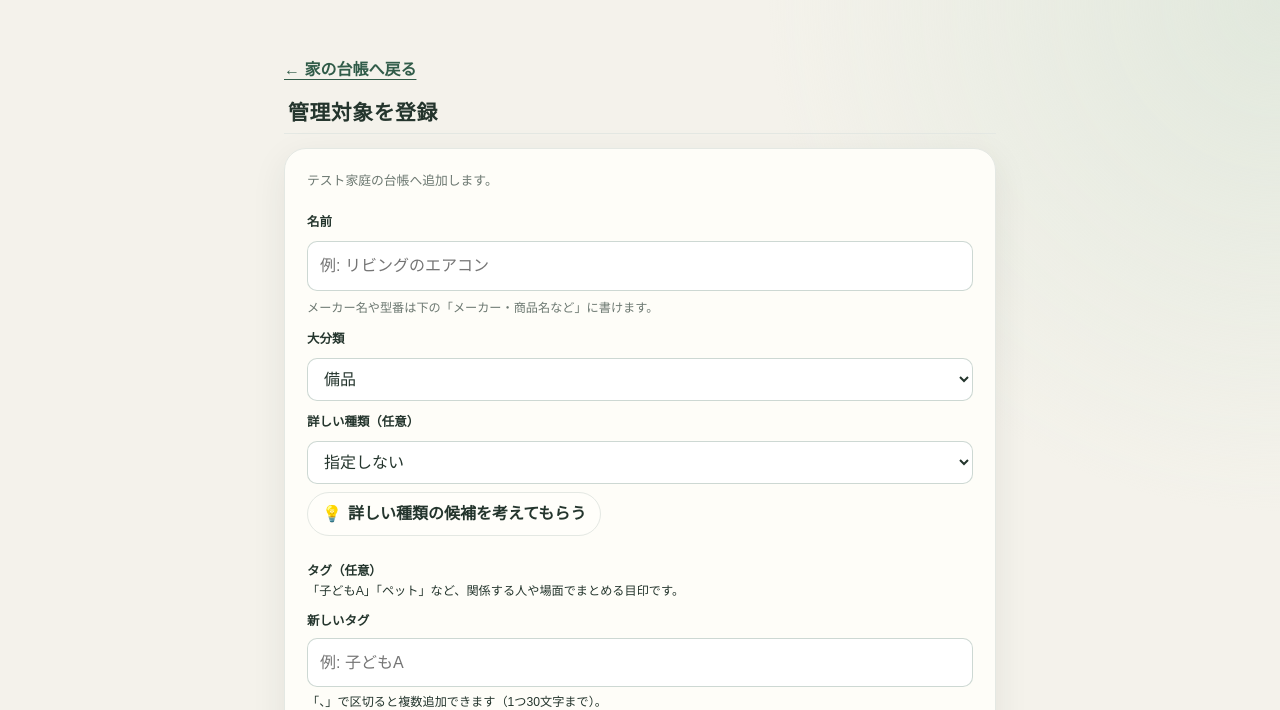
it: 登録・編集の自由入力(詳しい種類)候補(Issue #288) › 候補を選ぶと自由入力欄へ入り、そのまま送信できる
Step 1. Select "サービス" in the dropdown labelled "大分類" → {"x": 640, "y": 380}, box [307, 358, 973, 401]
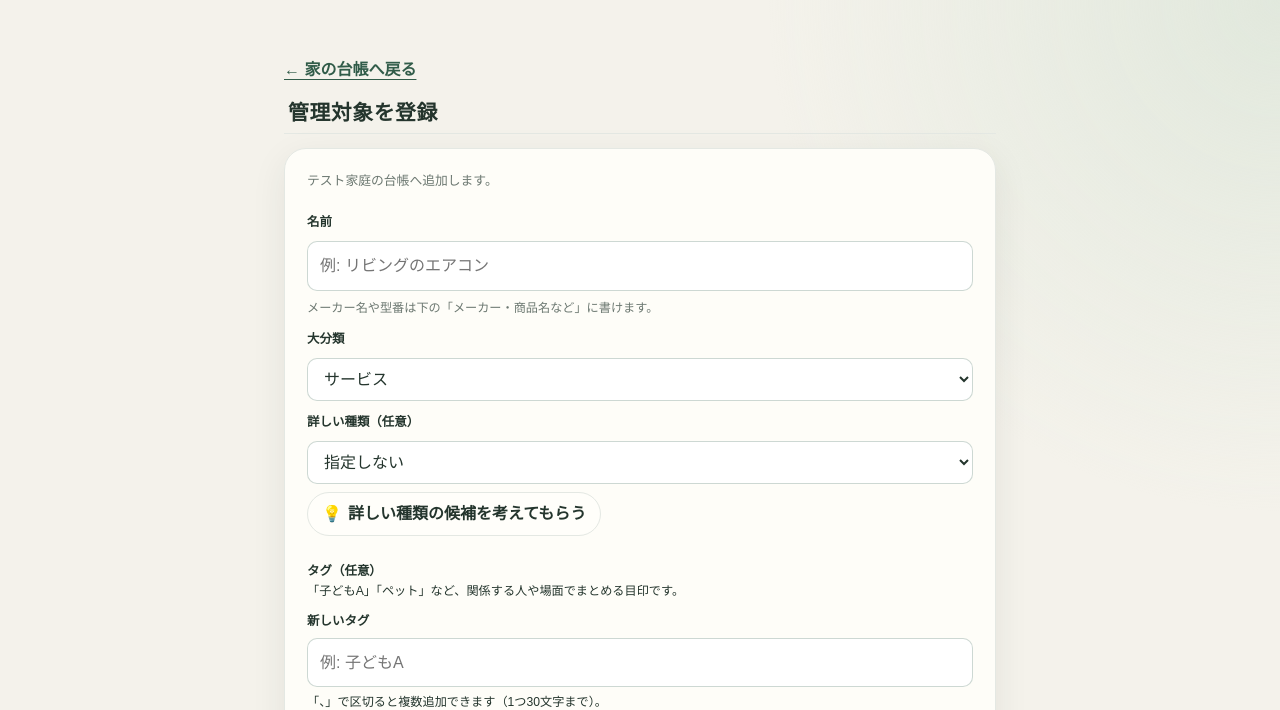
Step 2. Select "その他（自由入力）" in the dropdown labelled "詳しい種類（任意）" → {"x": 640, "y": 463}, box [307, 441, 973, 484]
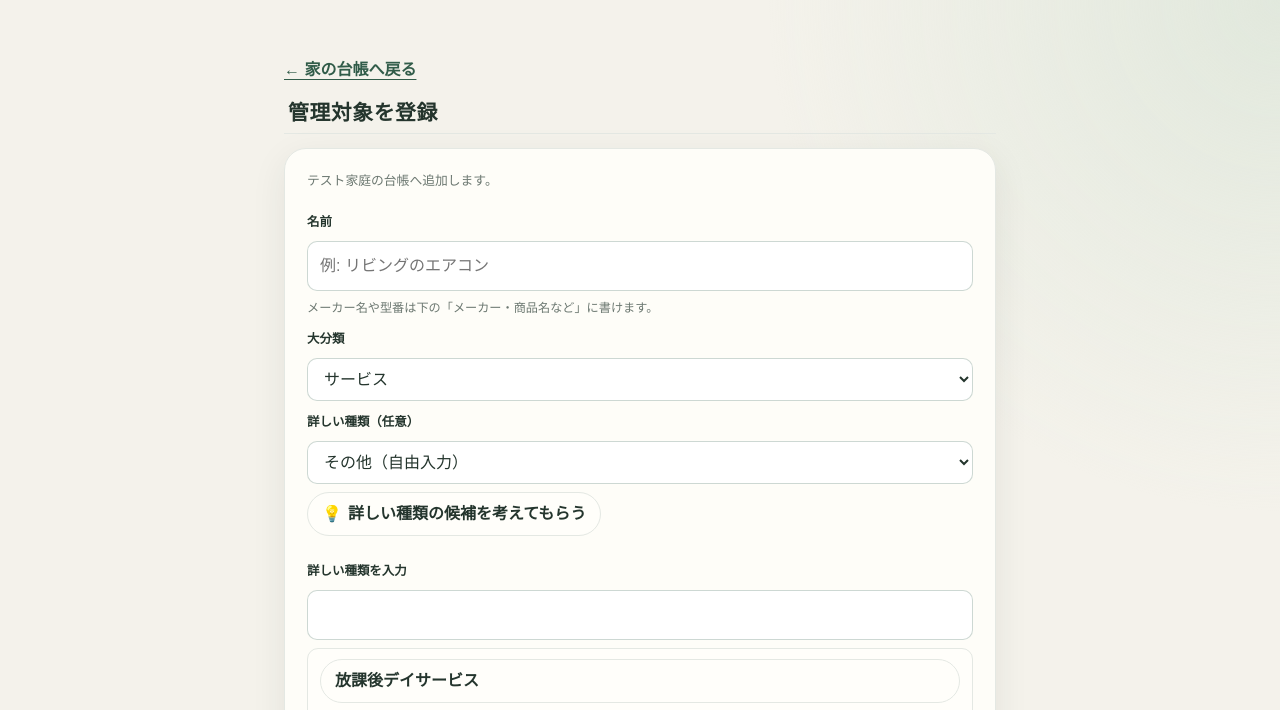
Now the field labelled "詳しい種類を入力" is empty, box [307, 590, 973, 640]
Step 3. Click the button "放課後デイサービス" → {"x": 407, "y": 681}, box [320, 659, 960, 703]
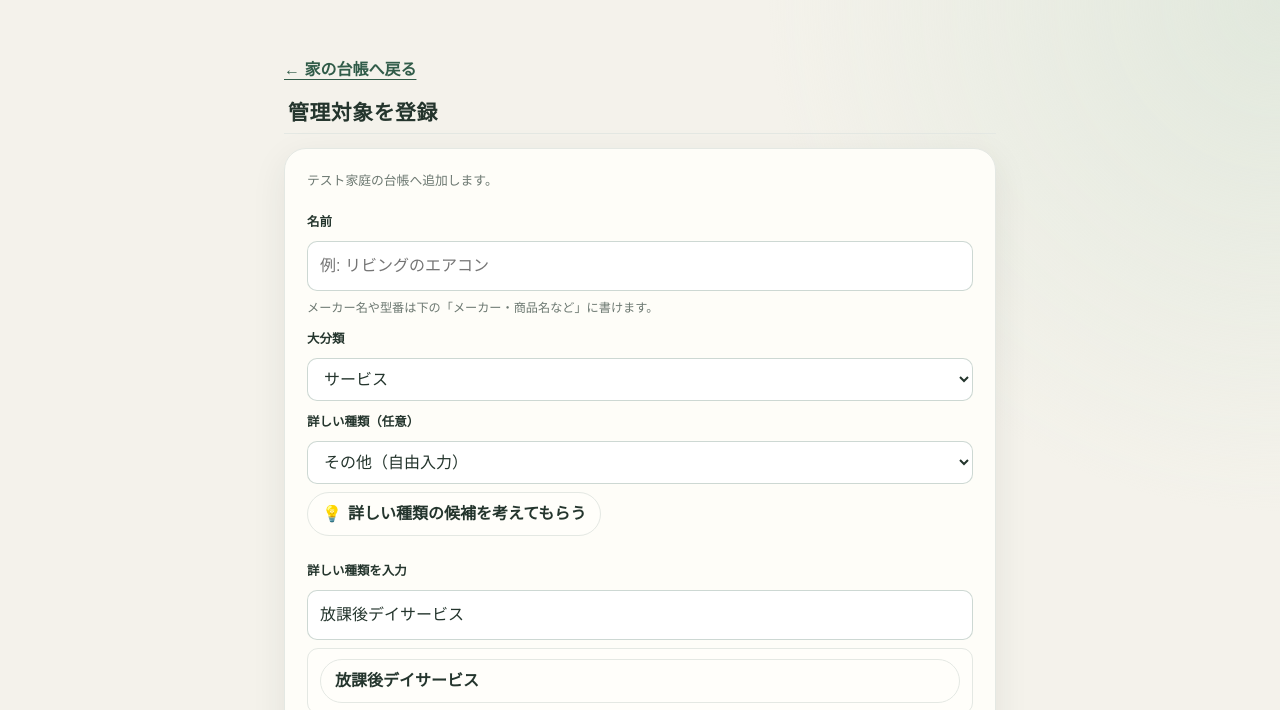
Now the field labelled "詳しい種類を入力" holds "放課後デイサービス", box [307, 590, 973, 640]
